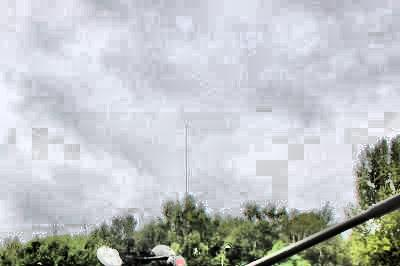tanks: (247, 197, 400, 266), (99, 248, 186, 266)
